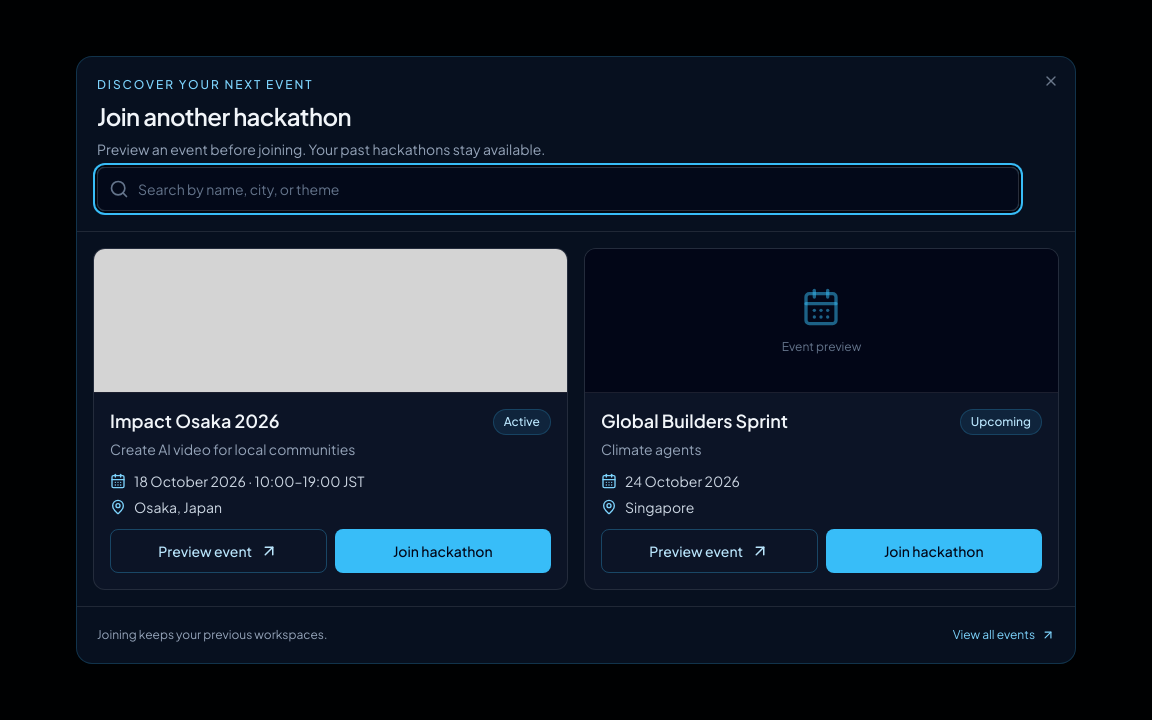
Test case: hackathon discovery › filters by event name, location, or theme using jApAn
Type "jApAn" into the search field named "Search hackathons" at (558, 189), box [97,167,1019,211]
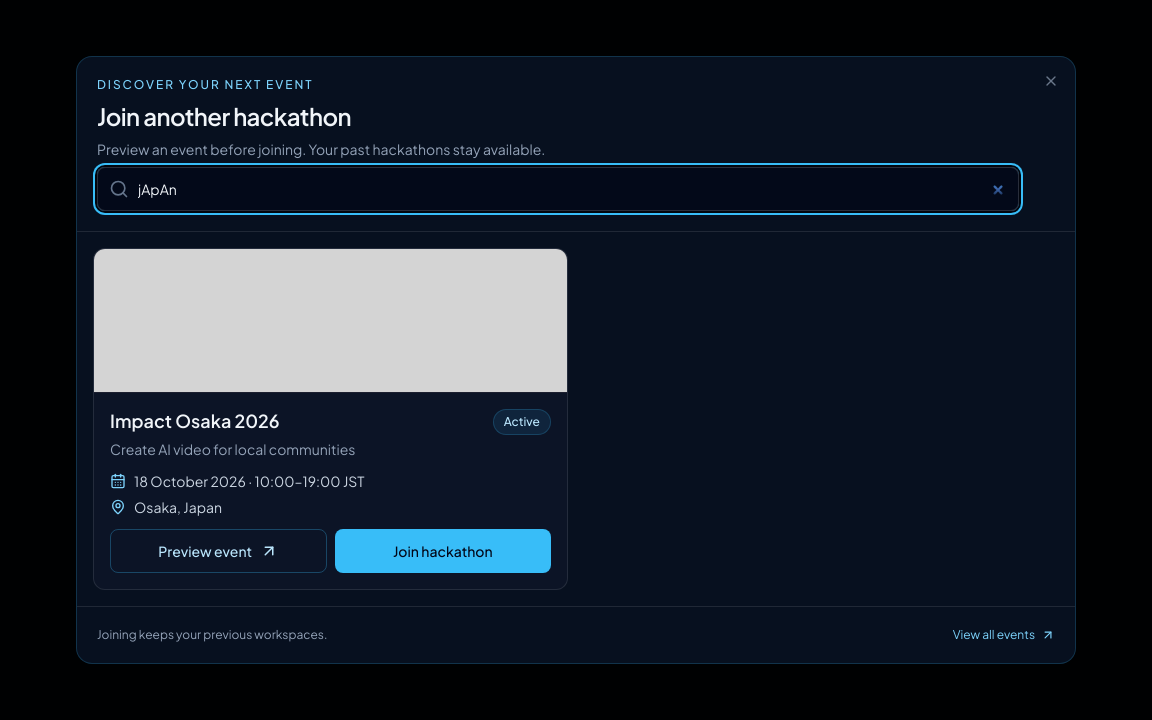
Expected: the element "Impact Osaka 2026" is shown, [93,248,568,590]
Now the heading "Global Builders Sprint" is gone
